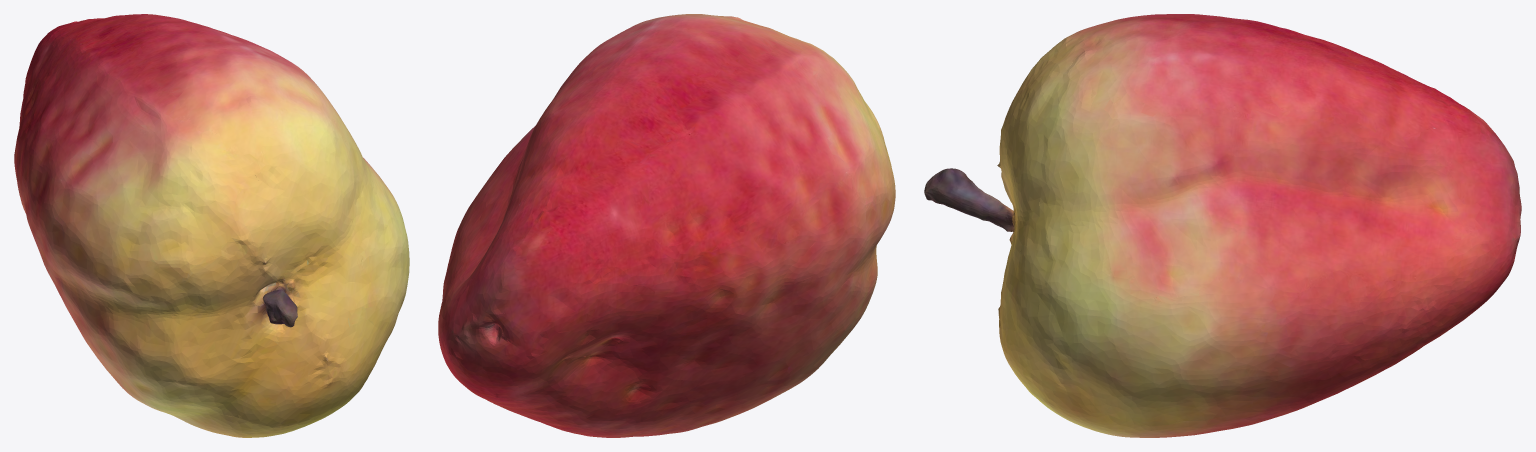
The model's file is peach1.obj.
3 renders of one model, left to right at view 1: azimuth 30°, elevation 25°; view 2: azimuth 150°, elevation 25°; view 3: azimuth 270°, elevation 25°, orthographic. The views are drawn at different scales.
Parts seen in each view (by area): view 1: peach; view 2: peach; view 3: peach.
Boxes of the visible parts, left/top/right/bottom form: peach: left=14, top=14, right=409, bottom=437; peach: left=438, top=14, right=895, bottom=437; peach: left=924, top=14, right=1521, bottom=437.
Size of the model in its own units: 0.0585 by 0.0602 by 0.0871.
